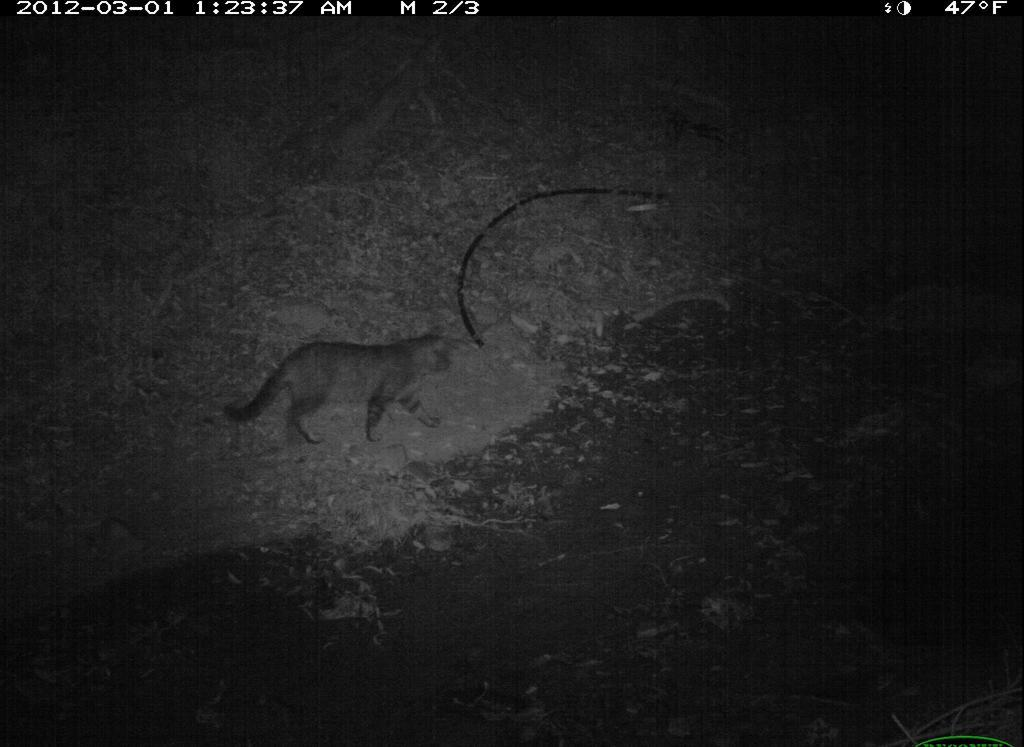cat: (221, 315, 454, 452)
